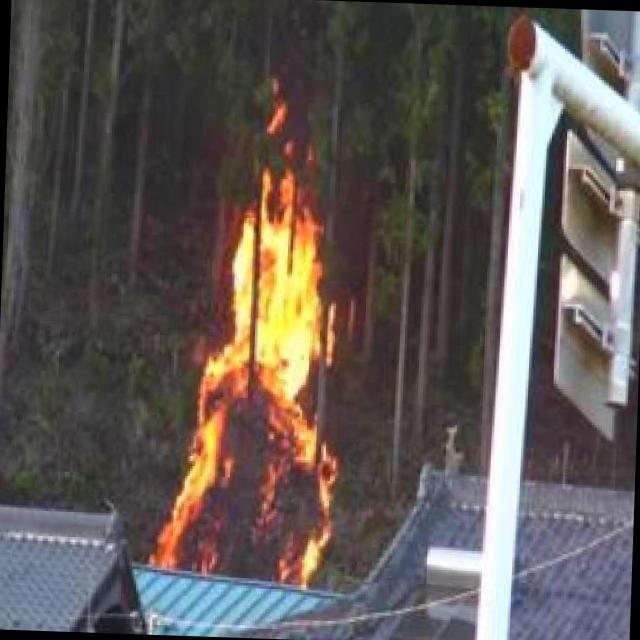Fire: (171, 166, 346, 586)
